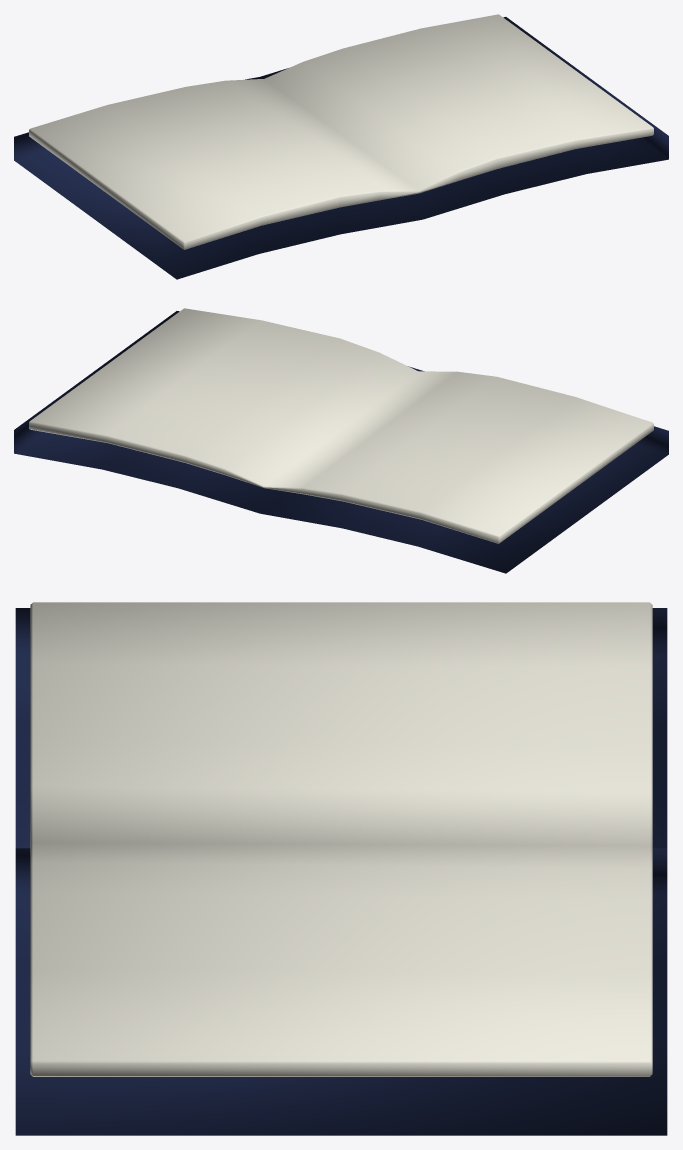
File: Blue Book Open.fbx
3 views of the same model, one above another, from view 1: azimuth 30°, elevation 25°; view 2: azimuth 150°, elevation 25°; view 3: azimuth 270°, elevation 25° (orthographic). The views are drawn at different scales.
Parts seen in each view (by area): view 1: Blue Book Open, Cover.002; view 2: Blue Book Open, Cover.002; view 3: Blue Book Open, Cover.002.
Boxes of the visible parts, bbox=[...] form: Blue Book Open: bbox=[29, 14, 653, 249]; Cover.002: bbox=[14, 17, 668, 279]; Blue Book Open: bbox=[29, 308, 653, 543]; Cover.002: bbox=[14, 311, 668, 573]; Blue Book Open: bbox=[30, 602, 652, 1076]; Cover.002: bbox=[15, 608, 667, 1135].
Bounding box in the file's own units: 477 × 37.07 × 273.
